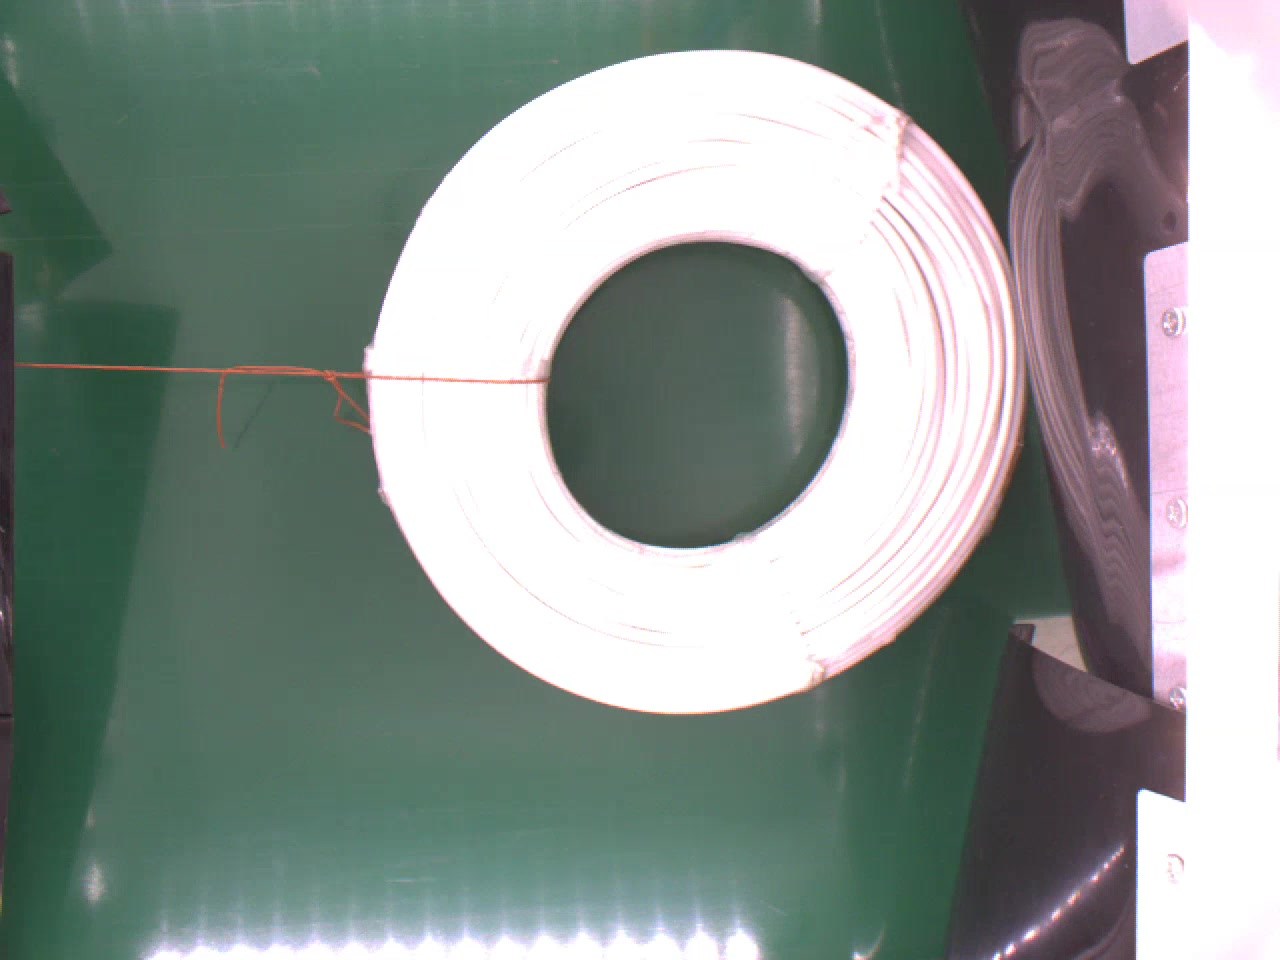white: (366, 46, 1037, 718)
